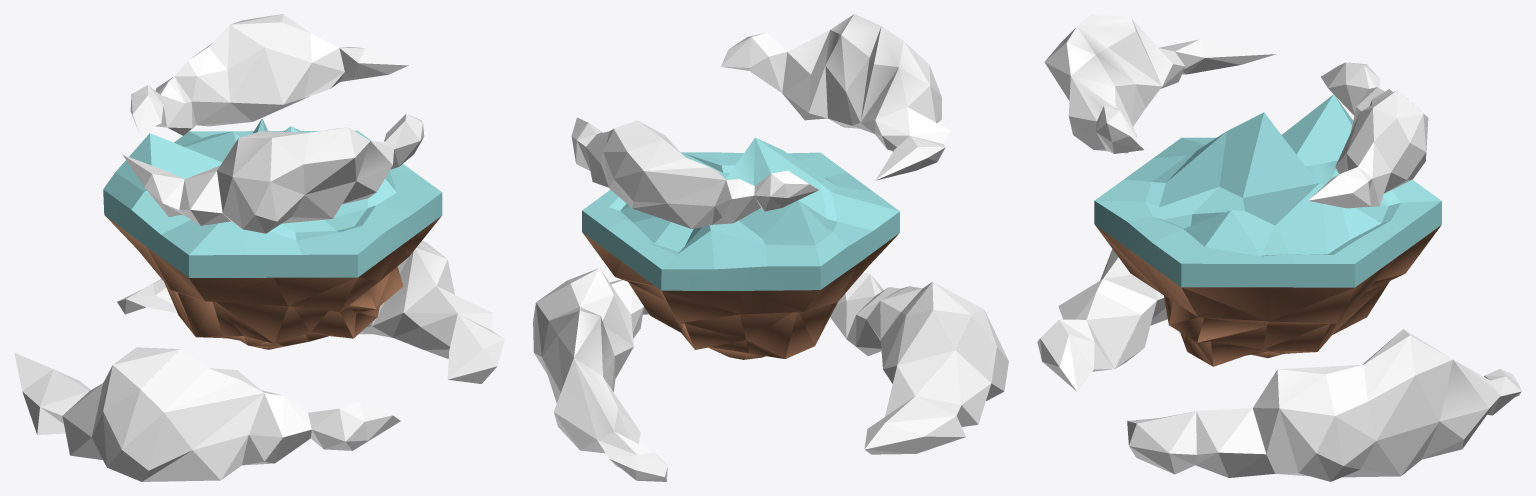
Rendered from ceu (ilha eterica flutuante).fbx.
3 views of the same model, side by side, from view 1: azimuth 30°, elevation 25°; view 2: azimuth 150°, elevation 25°; view 3: azimuth 270°, elevation 25° (orthographic). The views are drawn at different scales.
Visible parts, largest first — view 1: céu (Ilha eterica flutuante); view 2: céu (Ilha eterica flutuante); view 3: céu (Ilha eterica flutuante).
Boxes of the visible parts, x1=… form: céu (Ilha eterica flutuante): x1=14, y1=14, x2=504, y2=481; céu (Ilha eterica flutuante): x1=533, y1=14, x2=1008, y2=481; céu (Ilha eterica flutuante): x1=1037, y1=14, x2=1521, y2=481.
Bounding box in the file's own units: 1454 × 1117 × 1362.
